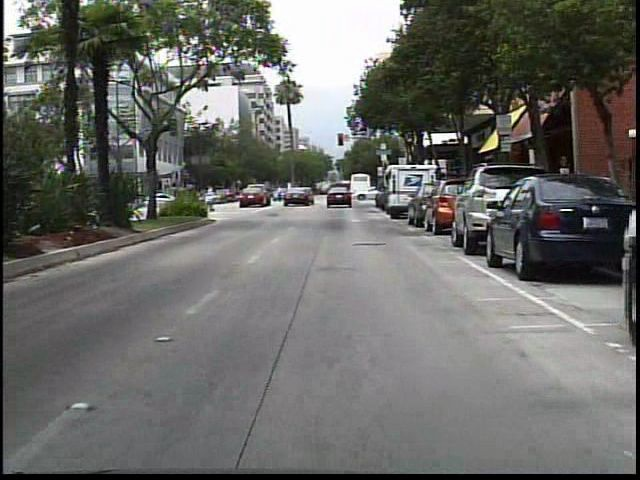person: (273, 181, 287, 205), (289, 183, 303, 205)
